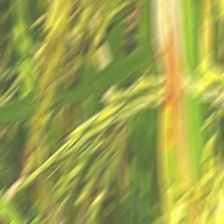Leaf_Blast: (146, 2, 199, 196)
